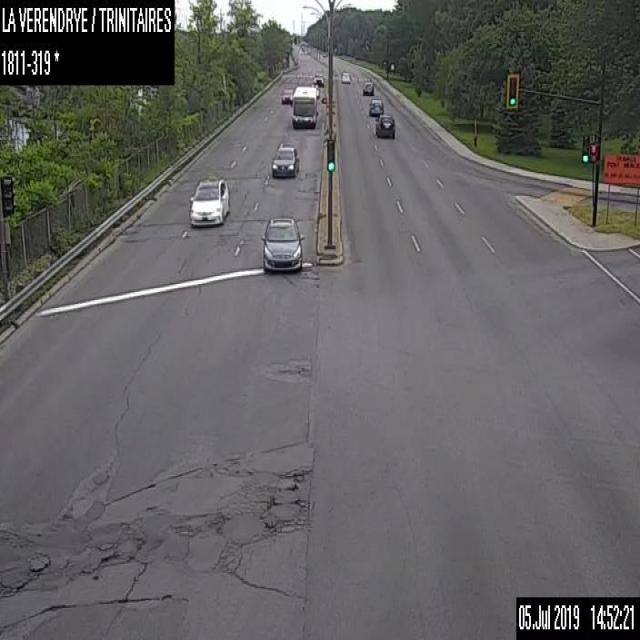bus: (290, 84, 316, 128)
vehicle: (260, 216, 303, 271), (188, 176, 229, 225), (271, 144, 298, 176), (374, 114, 394, 137), (368, 98, 383, 116), (312, 71, 325, 85), (281, 88, 293, 102), (363, 80, 373, 94), (340, 71, 350, 83), (310, 84, 318, 95)
